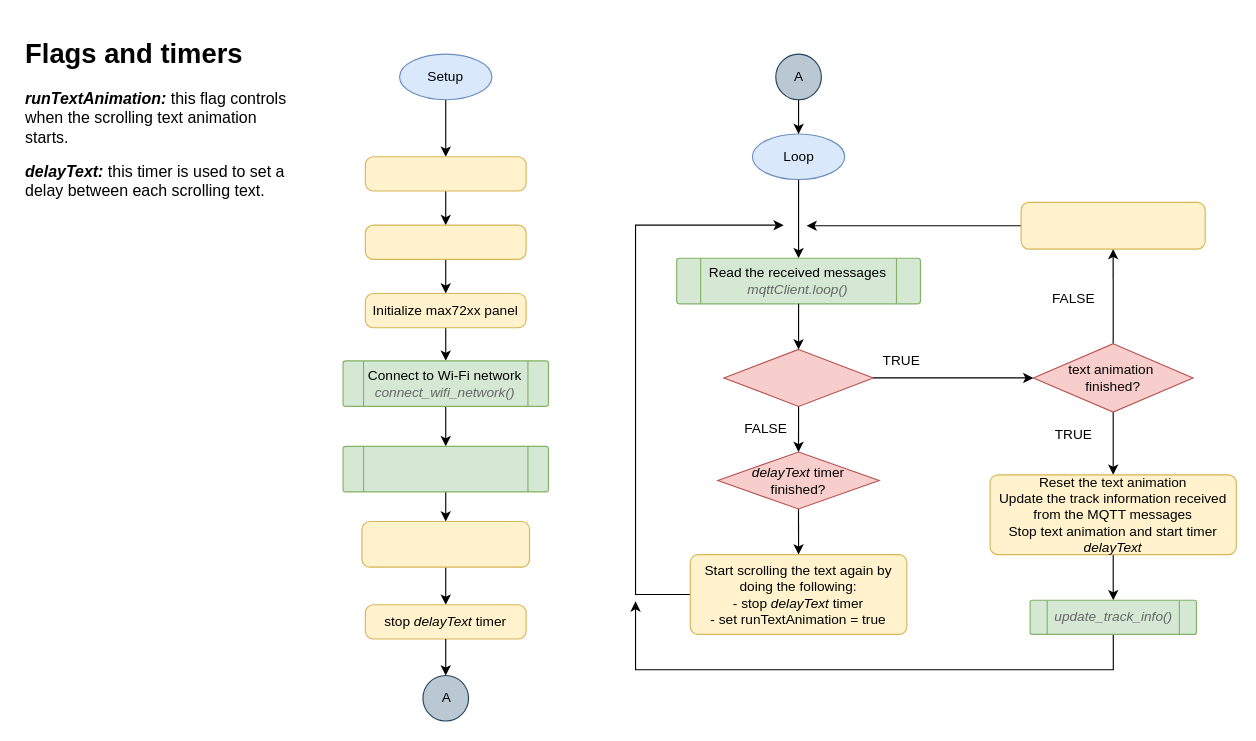
This 1256x741 diagram has some shape labels left out. The centre of each missing label's shape, as x and y in pixels:
"Connect to MQTT broker connect_mqtt_broker()" goes at point (445, 468).
"Continue text animation led_matrix.displayAnimate()" goes at point (1112, 225).
"Display name of the project on the LED matrix" goes at point (445, 543).
"Initialize MQTT client" goes at point (445, 241).
"Initialize Serial" goes at point (445, 173).
"runTextAnimation" goes at point (798, 377).
